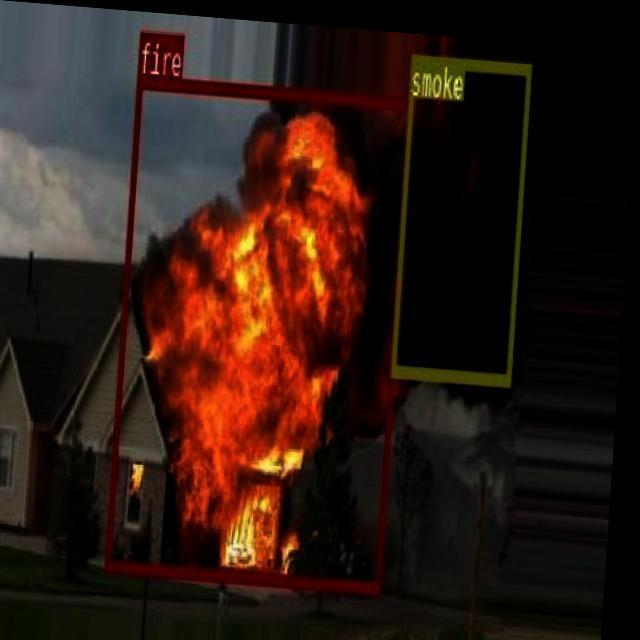Fire: (128, 93, 411, 575)
Smoke: (390, 37, 530, 386)
